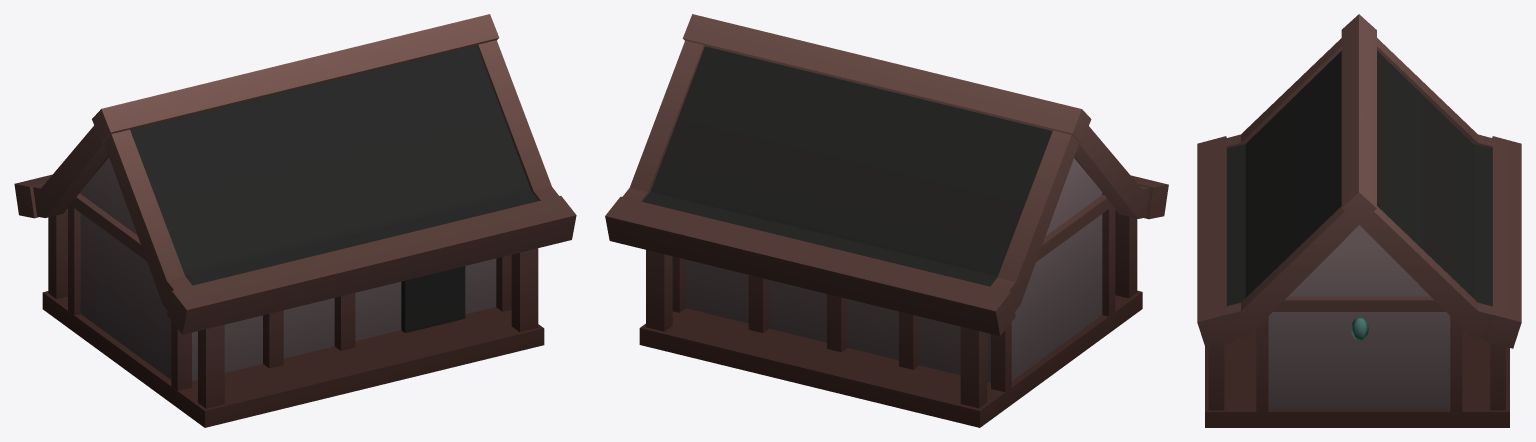
Rendered from Rumah 3 .fbx.
The picture shows the model from 3 angles, left to right: view 1: azimuth 30°, elevation 25°; view 2: azimuth 150°, elevation 25°; view 3: azimuth 270°, elevation 25°; orthographic projection. The views are drawn at different scales.
Parts seen in each view (by area): view 1: Plane, Plane.001, Cube.017, Cube.018, Plane.003, Cube.011, Plane.002, Cube.019, Cube.021, Cube.022, Cube.007, Cube.013 (+5 smaller); view 2: Plane, Plane.001, Cube.010, Cube.018, Plane.003, Cube.011, Cube.022, Cube.020, Cube.021, Cube.008, Cube.013, Cube.007 (+5 smaller); view 3: Plane, Plane.001, Plane.003, Cube.018, Cube.011, Cube.010, Cube.017, Cube.012, Cube.005, Cube.006, Cube.019, Cube.020 (+1 smaller).
Part boxes in pixels (x1=…): Plane: x1=88, y1=46, x2=539, y2=285; Plane.001: x1=80, y1=157, x2=496, y2=380; Cube.017: x1=167, y1=196, x2=576, y2=334; Cube.018: x1=42, y1=291, x2=544, y2=427; Plane.003: x1=33, y1=40, x2=558, y2=310; Cube.011: x1=92, y1=14, x2=499, y2=142; Plane.002: x1=401, y1=266, x2=465, y2=333; Cube.019: x1=511, y1=248, x2=538, y2=331; Cube.021: x1=198, y1=325, x2=224, y2=408; Cube.022: x1=48, y1=210, x2=67, y2=298; Cube.007: x1=68, y1=192, x2=80, y2=315; Cube.013: x1=70, y1=194, x2=146, y2=260; Plane: x1=642, y1=46, x2=1094, y2=286; Plane.001: x1=686, y1=158, x2=1102, y2=382; Cube.010: x1=605, y1=196, x2=1015, y2=335; Cube.018: x1=639, y1=290, x2=1142, y2=427; Plane.003: x1=622, y1=40, x2=1149, y2=311; Cube.011: x1=682, y1=14, x2=1091, y2=143; Cube.022: x1=960, y1=326, x2=987, y2=408; Cube.020: x1=646, y1=250, x2=672, y2=331; Cube.021: x1=1115, y1=211, x2=1137, y2=298; Cube.008: x1=1102, y1=193, x2=1115, y2=316; Cube.013: x1=1036, y1=194, x2=1112, y2=261; Cube.007: x1=991, y1=322, x2=1011, y2=392; Plane: x1=1227, y1=51, x2=1491, y2=306; Plane.001: x1=1268, y1=225, x2=1450, y2=409; Plane.003: x1=1226, y1=38, x2=1492, y2=339; Cube.018: x1=1205, y1=316, x2=1509, y2=427; Cube.011: x1=1341, y1=14, x2=1376, y2=224; Cube.010: x1=1484, y1=136, x2=1521, y2=348; Cube.017: x1=1197, y1=136, x2=1234, y2=348; Cube.012: x1=1273, y1=296, x2=1445, y2=311; Cube.005: x1=1450, y1=316, x2=1462, y2=411; Cube.006: x1=1256, y1=317, x2=1268, y2=411; Cube.019: x1=1208, y1=344, x2=1224, y2=410; Cube.020: x1=1490, y1=343, x2=1505, y2=410.
Size of the model in its own units: 303 by 197 by 233.
